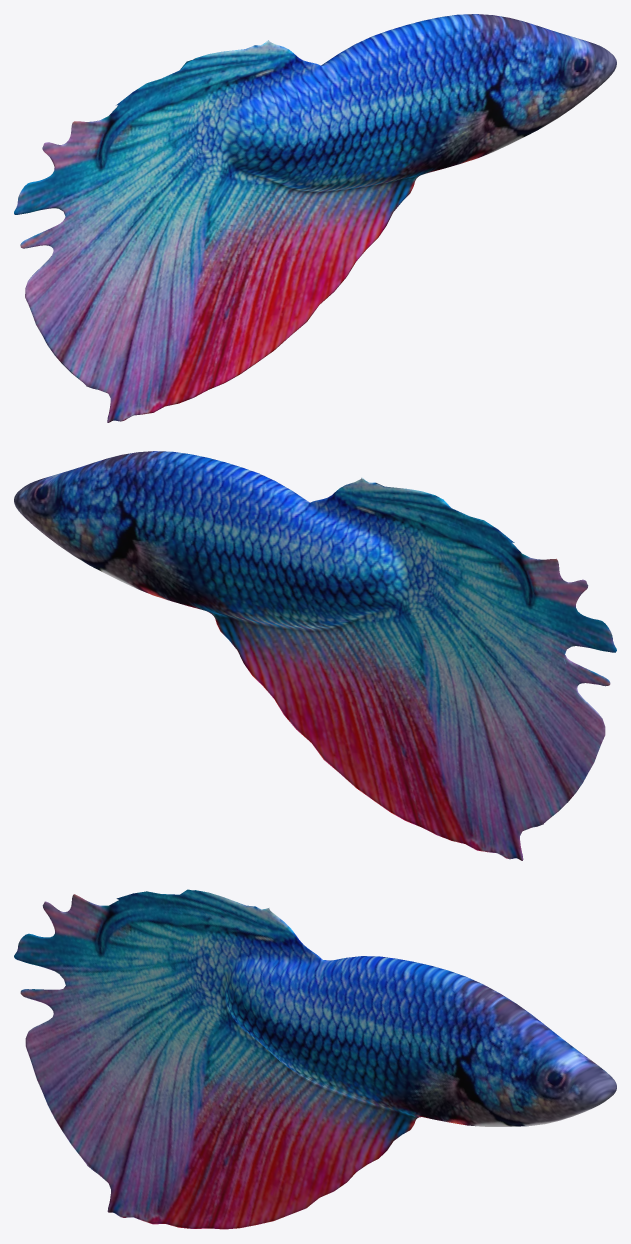
The model's file is fish.glb.
3 renders of one model, top to bottom at view 1: azimuth 30°, elevation 25°; view 2: azimuth 150°, elevation 25°; view 3: azimuth 330°, elevation 25°, orthographic.
Parts seen in each view (by area): view 1: Blue_Fish_0001; view 2: Blue_Fish_0001; view 3: Blue_Fish_0001.
Part boxes in pixels (x1,y1,x2,y2): Blue_Fish_0001: [14, 14, 616, 422]; Blue_Fish_0001: [14, 451, 616, 860]; Blue_Fish_0001: [14, 889, 616, 1229].
Bounding box in the file's own units: 0.4945 × 0.2737 × 0.0429.
1 material, 1 textured.
